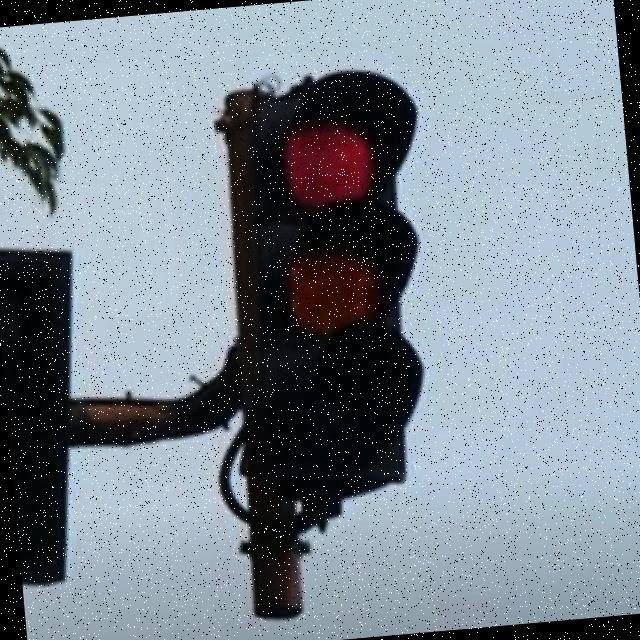Zolte swiatlo: (254, 65, 448, 504)
